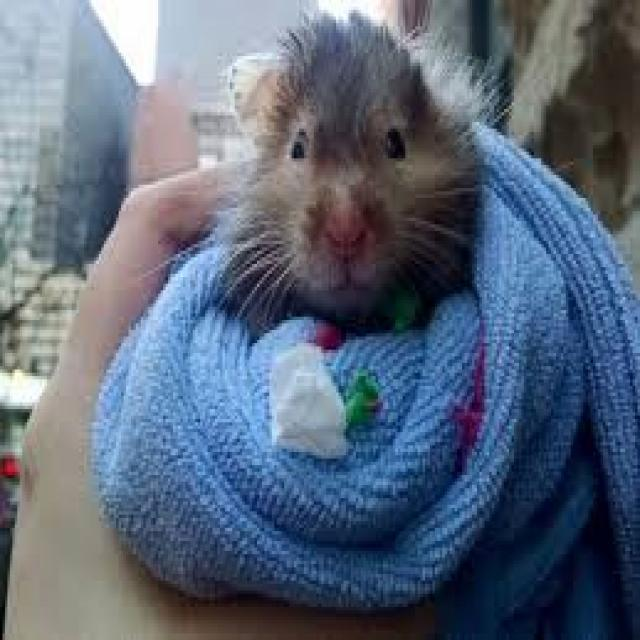hamster: (222, 13, 492, 327)
